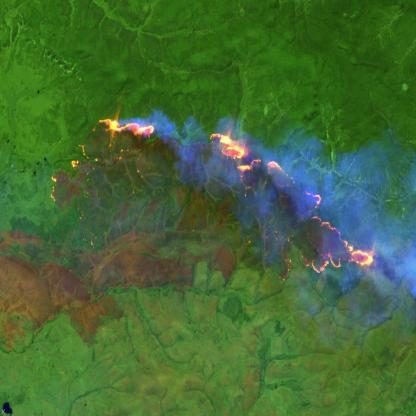fire: (43, 109, 388, 287)
